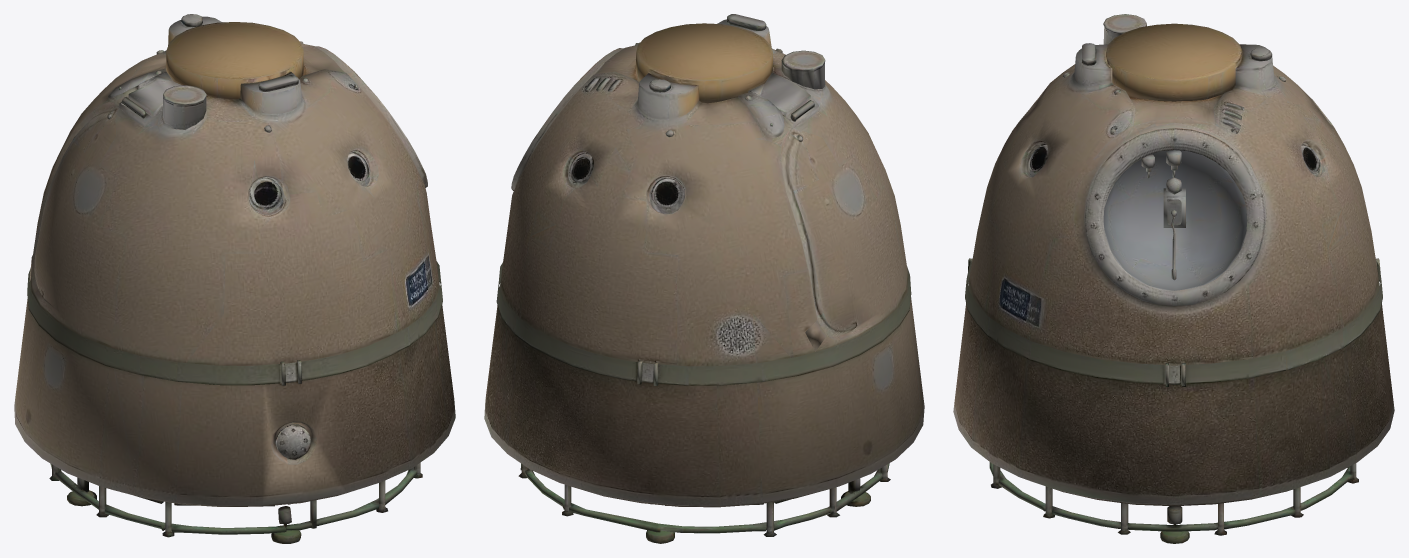
The model's file is gravity_capsule.glb.
3 renders of one model, left to right at view 1: azimuth 30°, elevation 25°; view 2: azimuth 150°, elevation 25°; view 3: azimuth 270°, elevation 25°, orthographic.
Visible parts, largest first — view 1: tripo_node_62058435-78ce-4672-b8f3-334dec3c93f9; view 2: tripo_node_62058435-78ce-4672-b8f3-334dec3c93f9; view 3: tripo_node_62058435-78ce-4672-b8f3-334dec3c93f9.
Boxes of the visible parts, x1=… form: tripo_node_62058435-78ce-4672-b8f3-334dec3c93f9: x1=14, y1=14, x2=455, y2=543; tripo_node_62058435-78ce-4672-b8f3-334dec3c93f9: x1=484, y1=14, x2=924, y2=543; tripo_node_62058435-78ce-4672-b8f3-334dec3c93f9: x1=953, y1=14, x2=1394, y2=543.
Bounding box in the file's own units: 0.9707 × 0.998 × 0.9707.
1 material, 1 textured.
